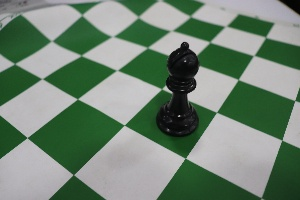black_bishop: (156, 33, 211, 140)
